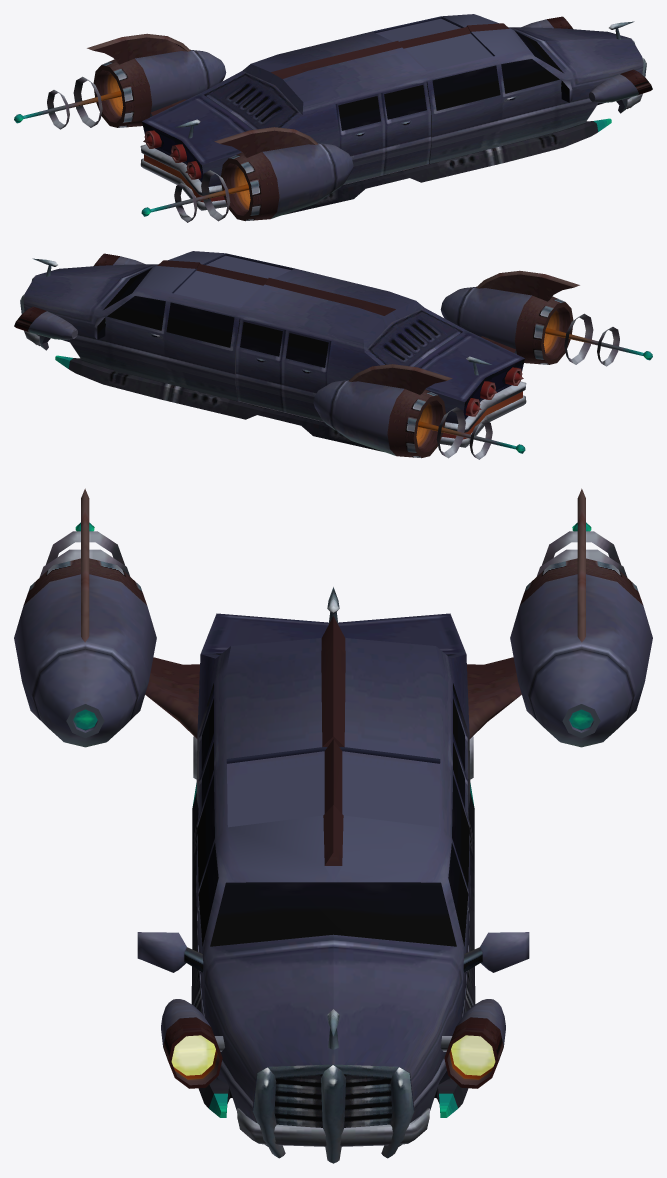
The model's file is SpaceLimo.obj.
3 views of the same model, one above another, from view 1: azimuth 30°, elevation 25°; view 2: azimuth 150°, elevation 25°; view 3: azimuth 270°, elevation 25° (orthographic). The views are drawn at different scales.
Parts seen in each view (by area): view 1: Texture_736, Texture_735; view 2: Texture_736, Texture_735; view 3: Texture_736, Texture_735.
Boxes of the visible parts, x1=… form: Texture_736: x1=135, y1=14, x2=643, y2=218; Texture_735: x1=14, y1=16, x2=652, y2=222; Texture_736: x1=23, y1=251, x2=531, y2=455; Texture_735: x1=14, y1=253, x2=652, y2=459; Texture_736: x1=14, y1=574, x2=652, y2=1146; Texture_735: x1=24, y1=488, x2=642, y2=1163.
Bounding box in the file's own units: 24.37 × 5.07 × 12.41.
Materials: 2 (2 with a texture image).
